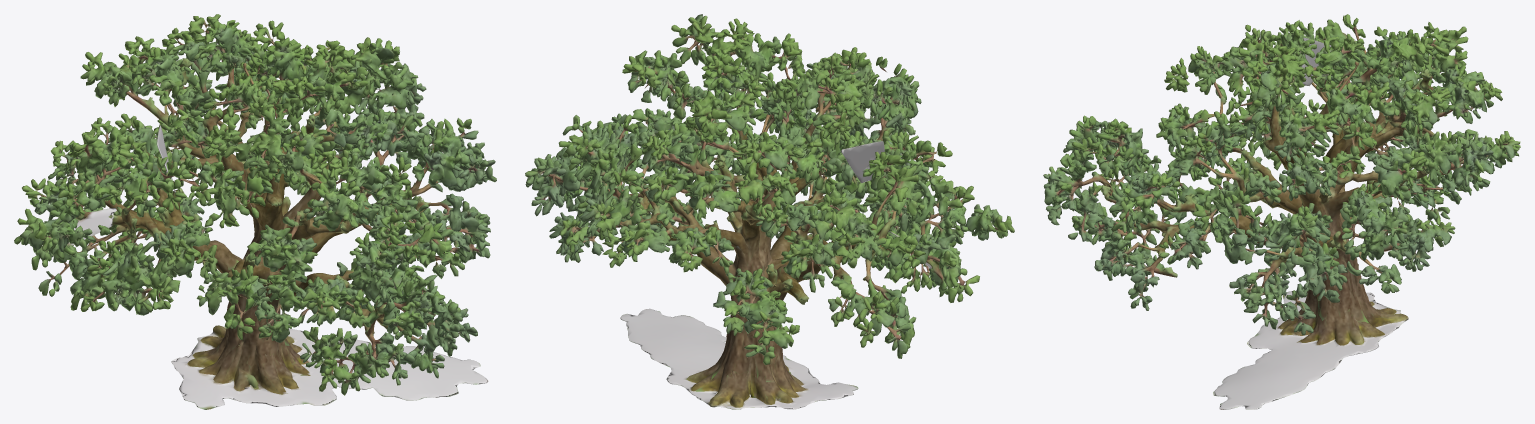
Rendered from RESOURCE-GreenlandsOakNode-01.fbx.
The picture shows the model from 3 angles, left to right: view 1: azimuth 30°, elevation 25°; view 2: azimuth 150°, elevation 25°; view 3: azimuth 270°, elevation 25°; orthographic projection. The views are drawn at different scales.
Visible parts, largest first — view 1: Art scale and orientation; view 2: Art scale and orientation; view 3: Art scale and orientation.
Boxes of the visible parts, <box> form: Art scale and orientation: <box>14,14,496,409</box>; Art scale and orientation: <box>525,14,1014,409</box>; Art scale and orientation: <box>1043,14,1520,409</box>.
Size of the model in its own units: 88.72 by 63.19 by 87.27.
Materials: 1 (1 with a texture image).
